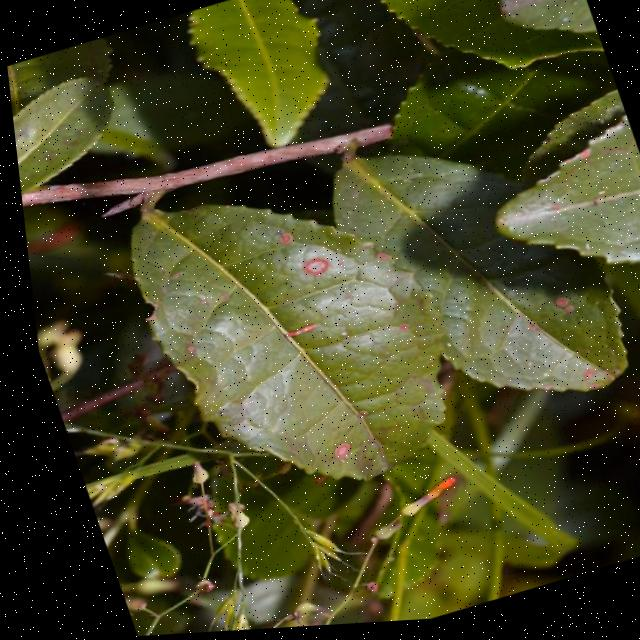Tea algae leaf spot: (248, 189, 408, 342), (271, 386, 410, 502)
